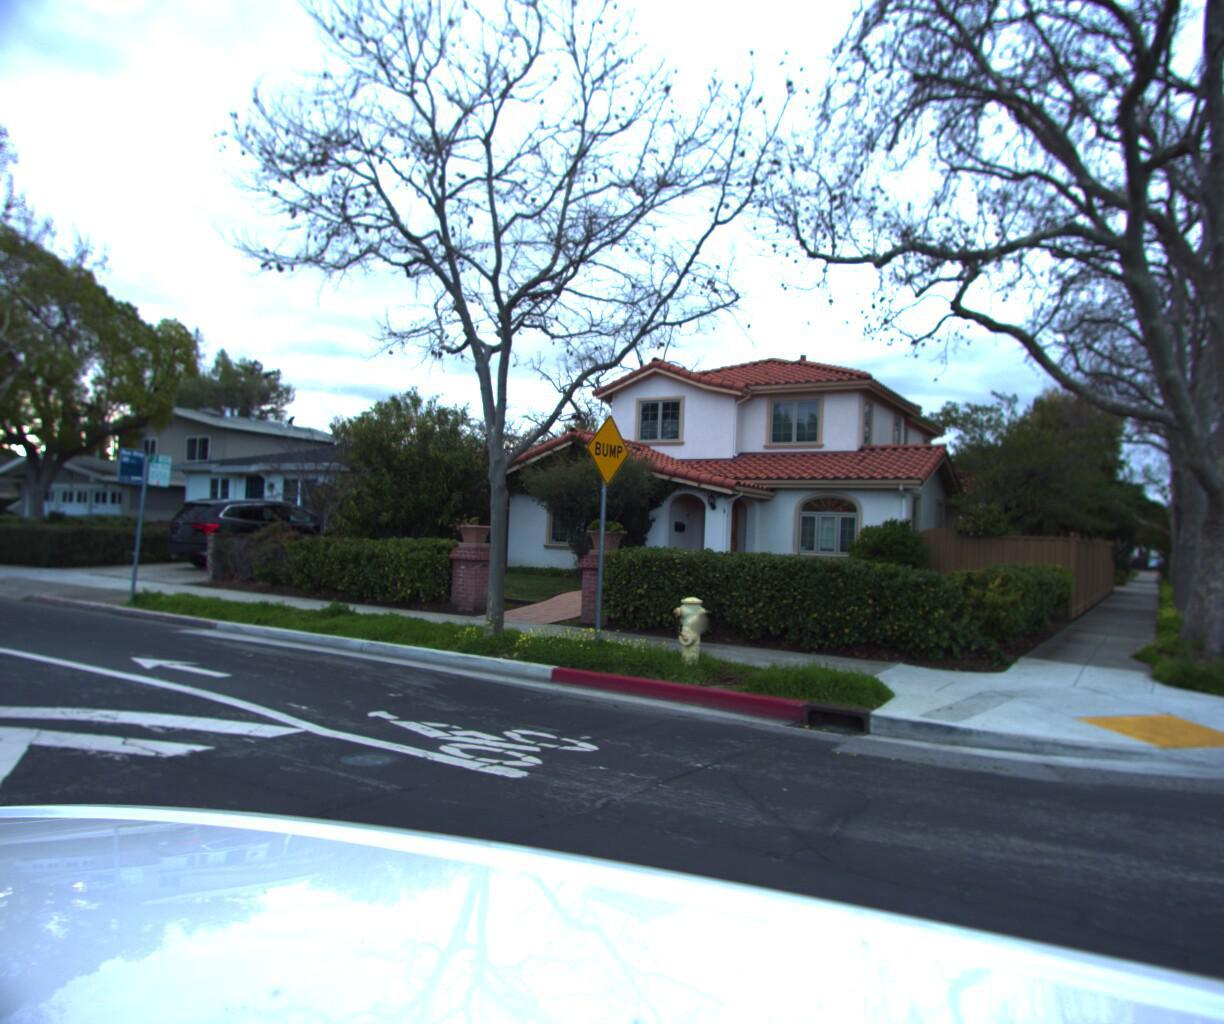car: (156, 492, 362, 567), (0, 498, 63, 546), (1213, 547, 1224, 606)
